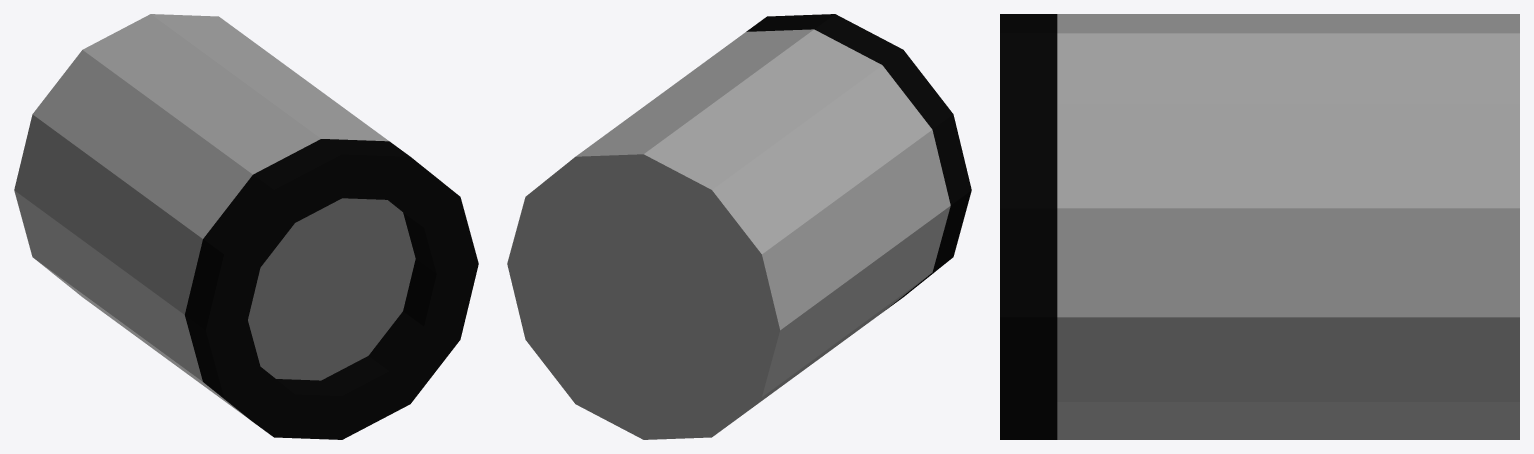
File: Right_Eye.fbx
3 views of the same model, side by side, from view 1: azimuth 30°, elevation 25°; view 2: azimuth 150°, elevation 25°; view 3: azimuth 270°, elevation 25° (orthographic). The views are drawn at different scales.
Parts seen in each view (by area): view 1: Right_Eye; view 2: Right_Eye; view 3: Right_Eye.
Boxes of the visible parts, x1,y1,x2,y2 form: Right_Eye: (14,14,478,439); Right_Eye: (507,14,971,439); Right_Eye: (1000,14,1519,439).
Size of the model in its own units: 20.59 by 20.59 by 25.02.
1 material, 1 textured.
